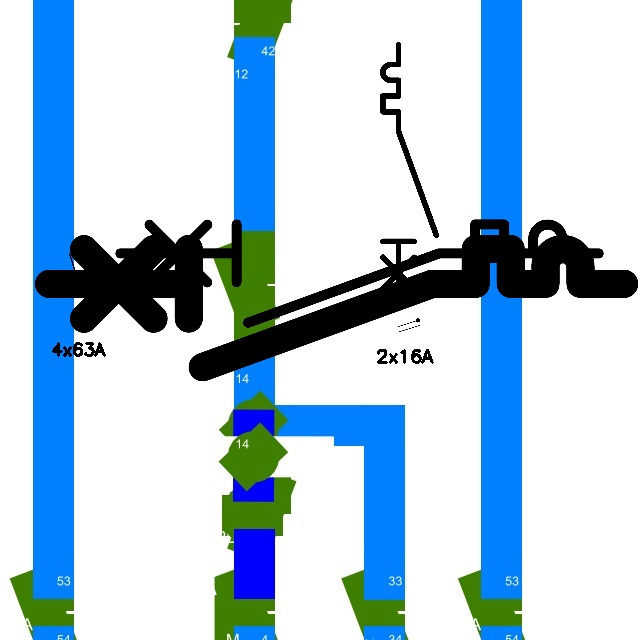interruptor_termomagnetico: (34, 234, 639, 382), (107, 212, 610, 335), (376, 38, 443, 311)
